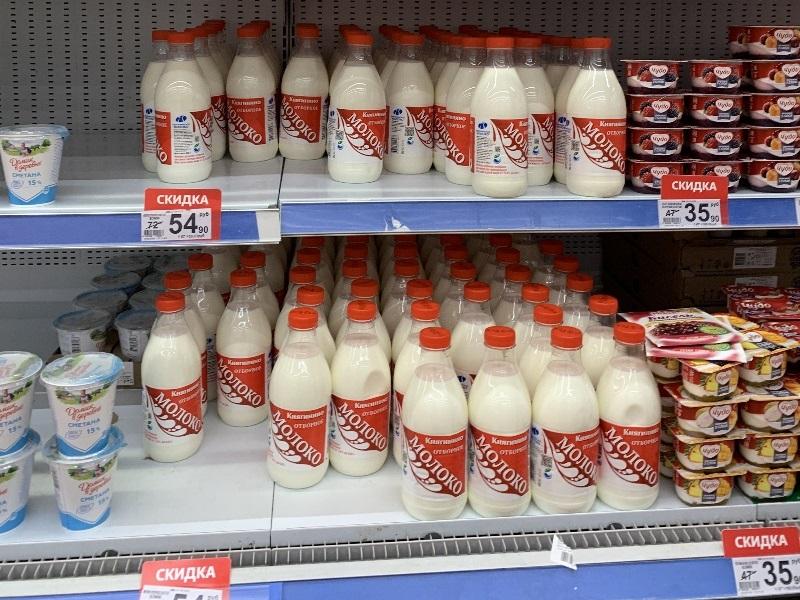milk: (458, 324, 540, 521), (592, 319, 673, 518), (398, 326, 475, 532), (526, 326, 605, 521), (132, 289, 213, 469), (262, 306, 337, 493), (324, 300, 396, 478), (559, 35, 634, 203), (470, 34, 536, 203), (324, 29, 392, 188), (212, 267, 273, 433), (153, 35, 218, 189), (221, 25, 284, 166), (276, 26, 337, 166), (384, 33, 442, 179)
